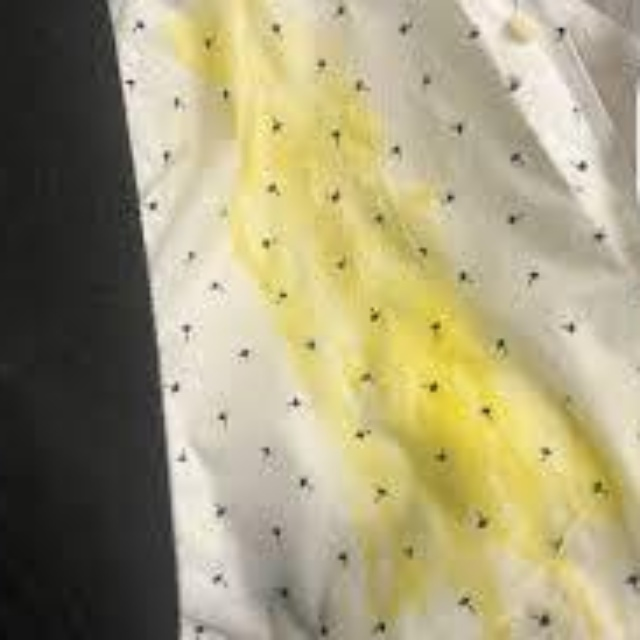mustard: (179, 7, 584, 617)
